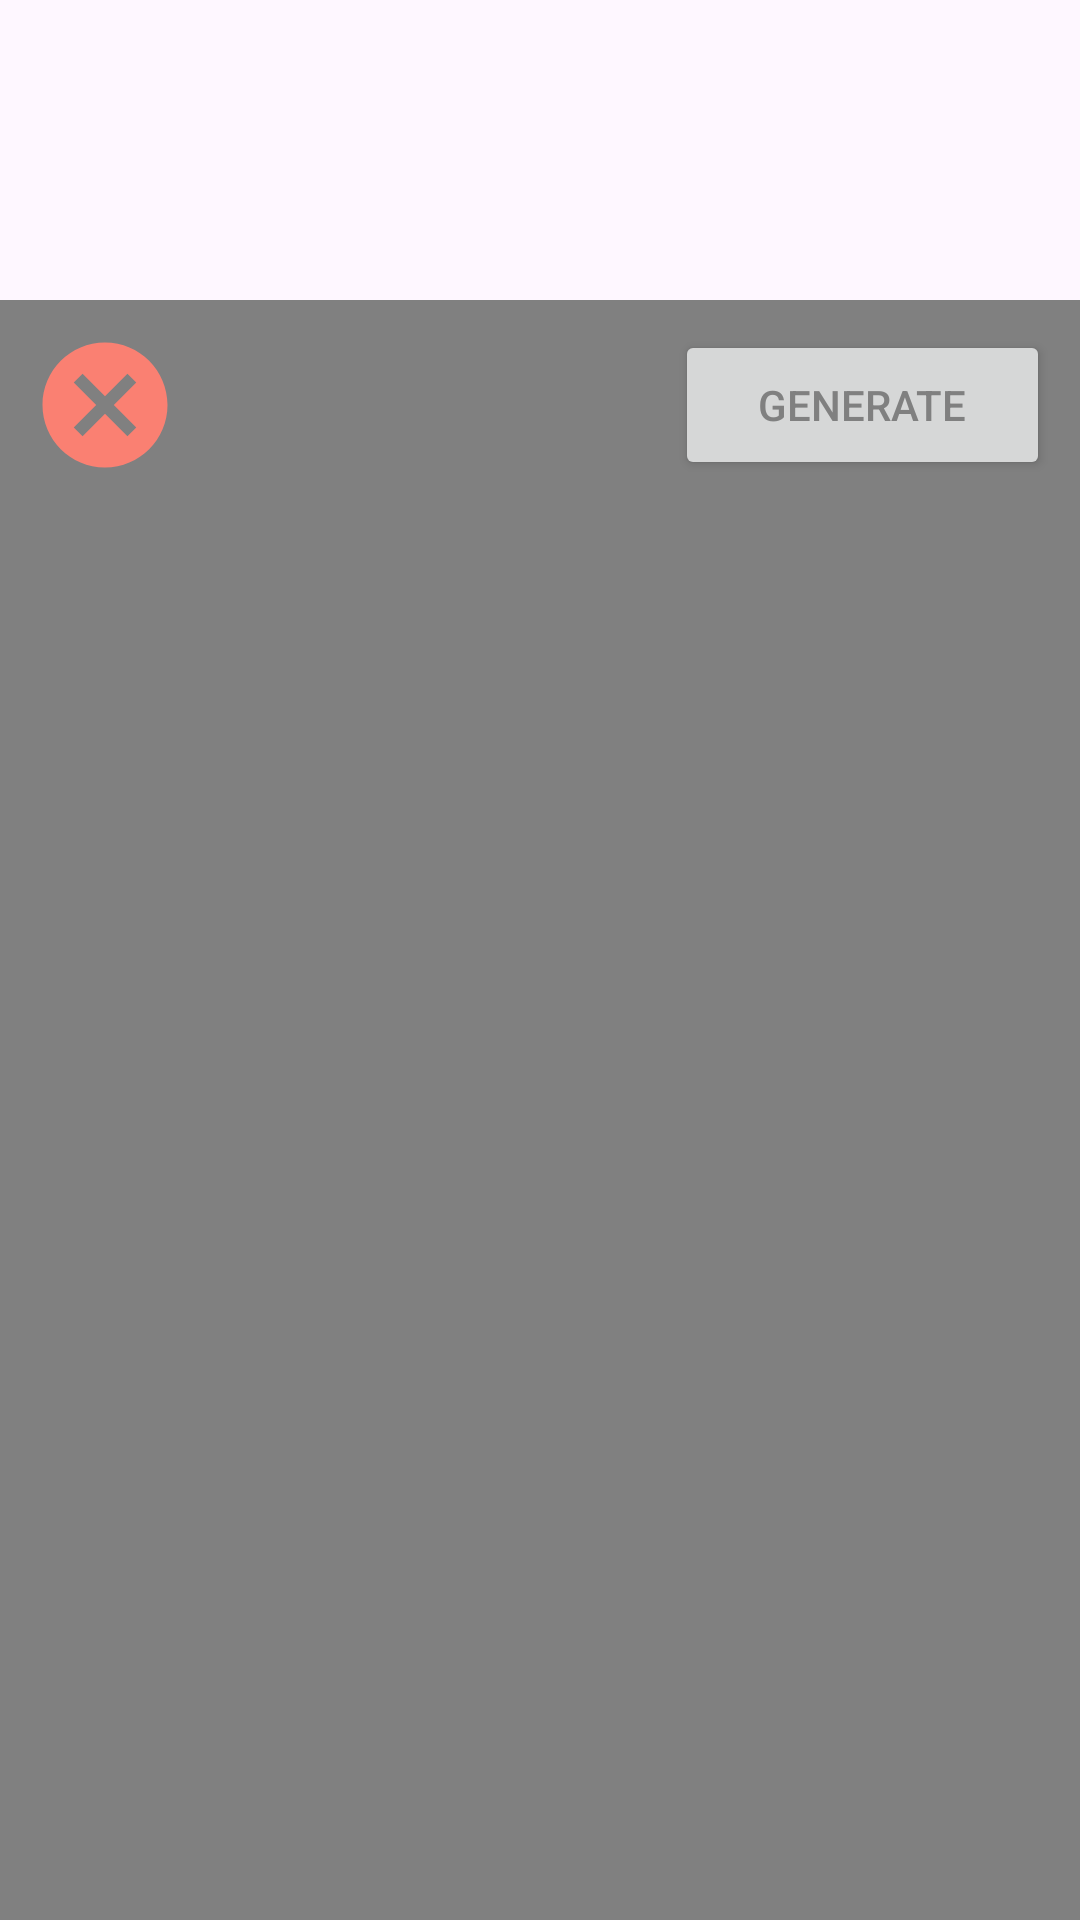

Icon click points for this 1080px×1920px phone screenshot, format point (x, y):
cancel: point (105, 405)
